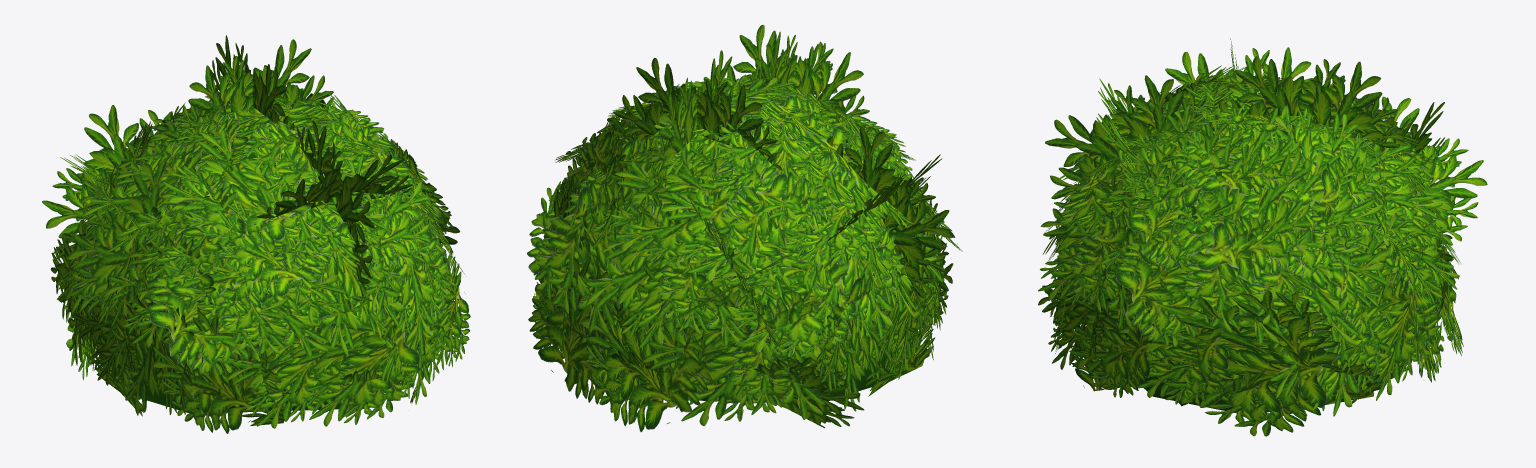
File: LabPlantC.fbx
3 views of the same model, side by side, from view 1: azimuth 30°, elevation 25°; view 2: azimuth 150°, elevation 25°; view 3: azimuth 270°, elevation 25° (orthographic). The views are drawn at different scales.
Parts seen in each view (by area): view 1: LabPlantC; view 2: LabPlantC; view 3: LabPlantC.
Boxes of the visible parts, x1,y1,x2,y2 form: LabPlantC: [42, 35, 470, 433]; LabPlantC: [527, 25, 962, 432]; LabPlantC: [1038, 38, 1487, 436].
Bounding box in the file's own units: 68.72 × 50.72 × 70.84.
